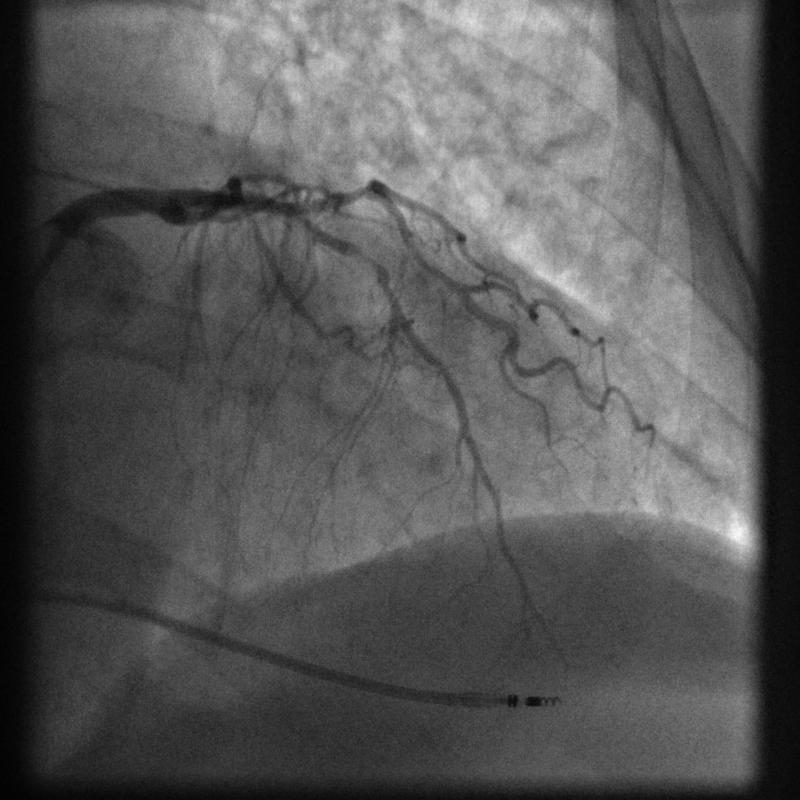Stenosis: (347, 241, 393, 292)
